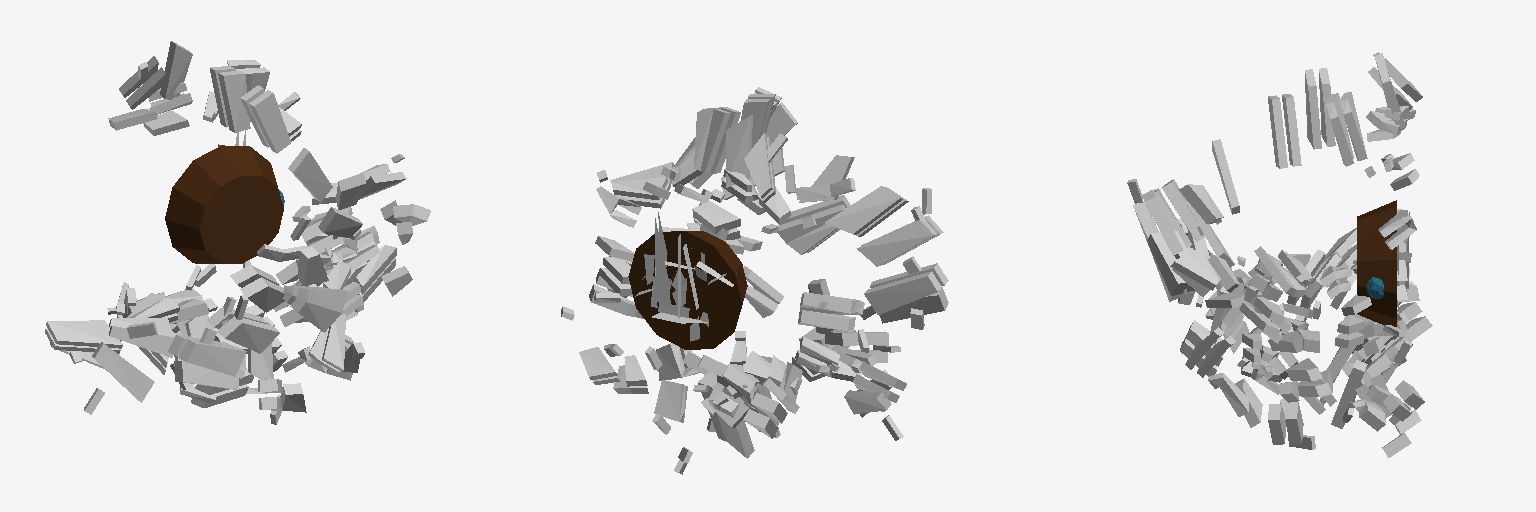
The picture shows the model from 3 angles: view 1: azimuth 30°, elevation 25°; view 2: azimuth 150°, elevation 25°; view 3: azimuth 270°, elevation 25°; orthographic projection.
Visible parts, largest first — view 1: Cone.001_Cone.001_cover, Cone_Cone_cover, Cylinder_Cylinder_Material.001; view 2: Cone_Cone_cover, Cone.001_Cone.001_cover, Cylinder_Cylinder_Material.001, Plane_Plane_Material.003; view 3: Cone_Cone_cover, Cone.001_Cone.001_cover, Cylinder_Cylinder_Material.001, Plane_Plane_Material.003.
Boxes of the visible parts, x1,y1,x2,y2 form: Cone.001_Cone.001_cover: [45, 41, 406, 414]; Cone_Cone_cover: [122, 173, 430, 424]; Cylinder_Cylinder_Material.001: [165, 145, 283, 263]; Cone_Cone_cover: [561, 137, 948, 474]; Cone.001_Cone.001_cover: [594, 87, 931, 440]; Cylinder_Cylinder_Material.001: [628, 231, 747, 349]; Plane_Plane_Material.003: [635, 212, 736, 341]; Cone_Cone_cover: [1133, 179, 1432, 457]; Cone.001_Cone.001_cover: [1127, 52, 1422, 424]; Cylinder_Cylinder_Material.001: [1357, 200, 1396, 326]; Plane_Plane_Material.003: [1397, 209, 1419, 308].
Size of the model in its own units: 3.32 by 3.48 by 2.59.
Materials: 4 (1 with a texture image).